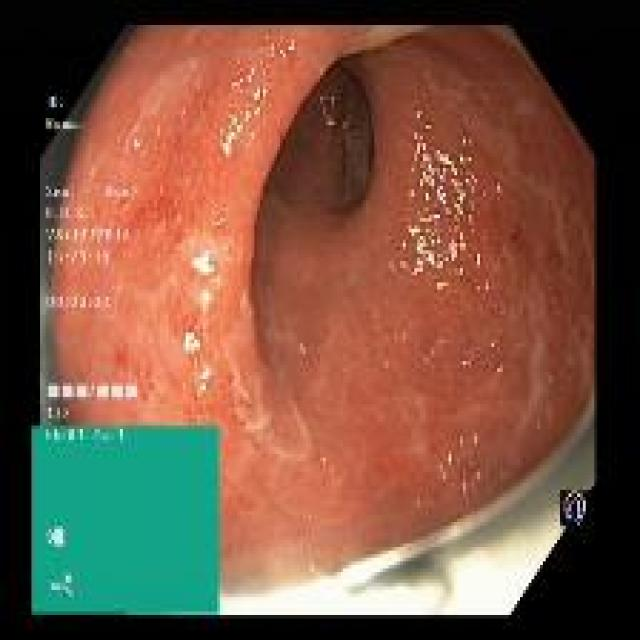ulcerative-colitis: (48, 28, 594, 584)
